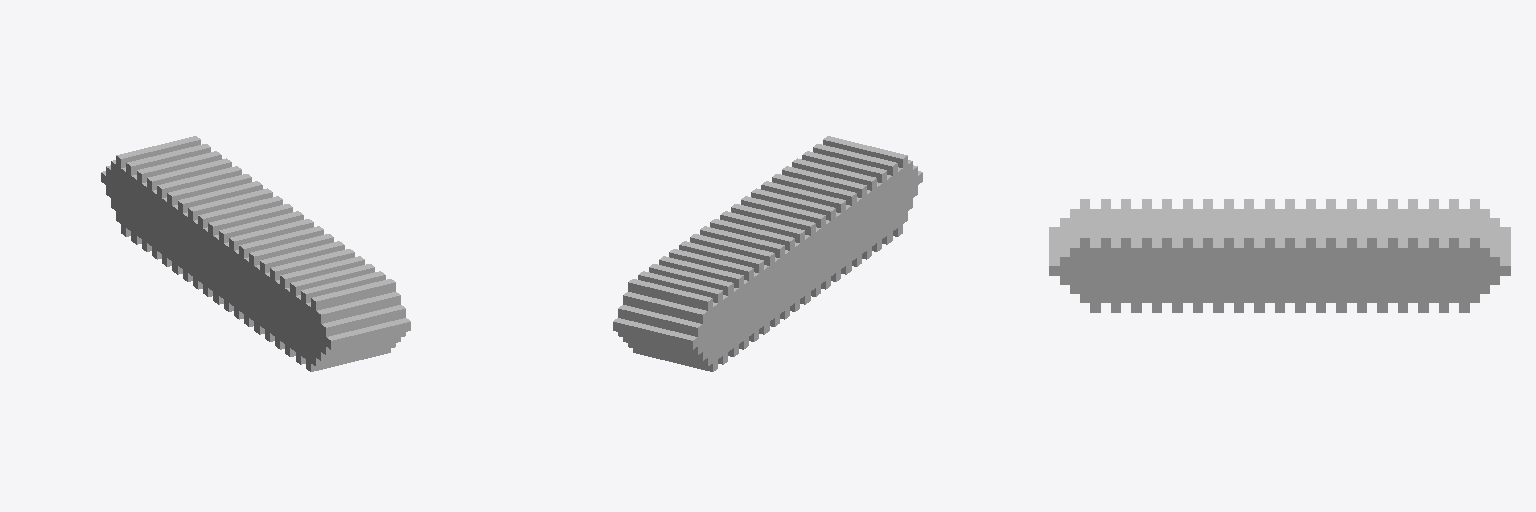
The model's file is Tankwheels 3.obj.
The picture shows the model from 3 angles: view 1: azimuth 30°, elevation 25°; view 2: azimuth 150°, elevation 25°; view 3: azimuth 270°, elevation 25°; orthographic projection.
Bounding box in the file's own units: 9 × 8 × 45.